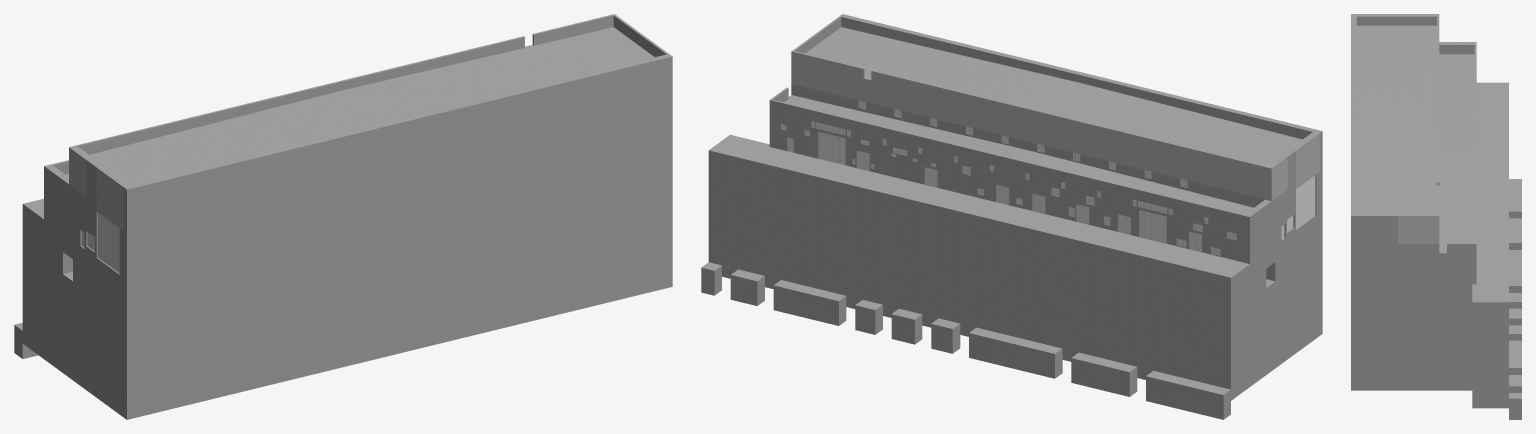
Rendered from TWFWPS_9_14_8_WLM.glb.
3 views of the same model, side by side, from view 1: azimuth 30°, elevation 25°; view 2: azimuth 150°, elevation 25°; view 3: azimuth 270°, elevation 25° (orthographic). The views are drawn at different scales.
Parts seen in each view (by area): view 1: Material #527; view 2: Material #527; view 3: Material #527.
Part boxes in pixels (x1=…): Material #527: x1=14, y1=14, x2=672, y2=419; Material #527: x1=701, y1=14, x2=1322, y2=419; Material #527: x1=1351, y1=14, x2=1521, y2=419.
Size of the model in its own units: 80.4 by 31.8 by 26.43.
Materials: 3 (3 with a texture image).
